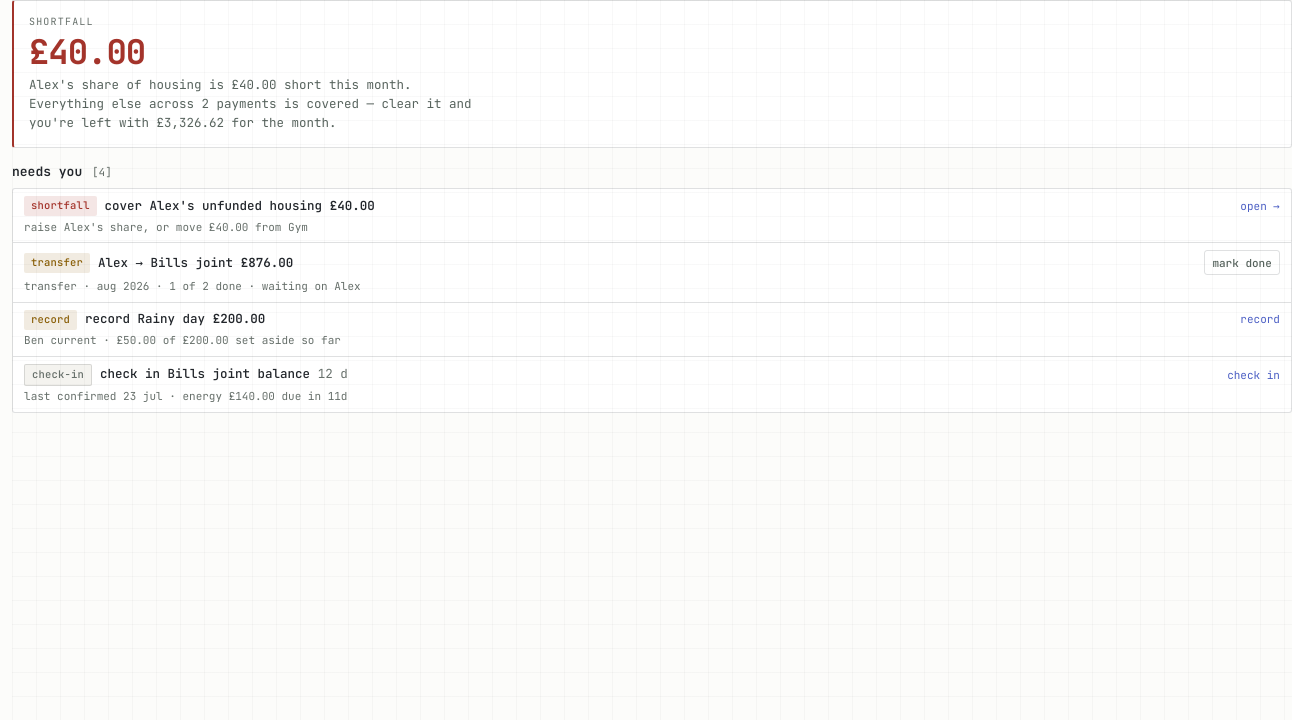
Fold · transfer › rolls the tick back and names the error code when the server refuses
Click the button "mark done": [1242, 263] box [1204, 250, 1280, 276]
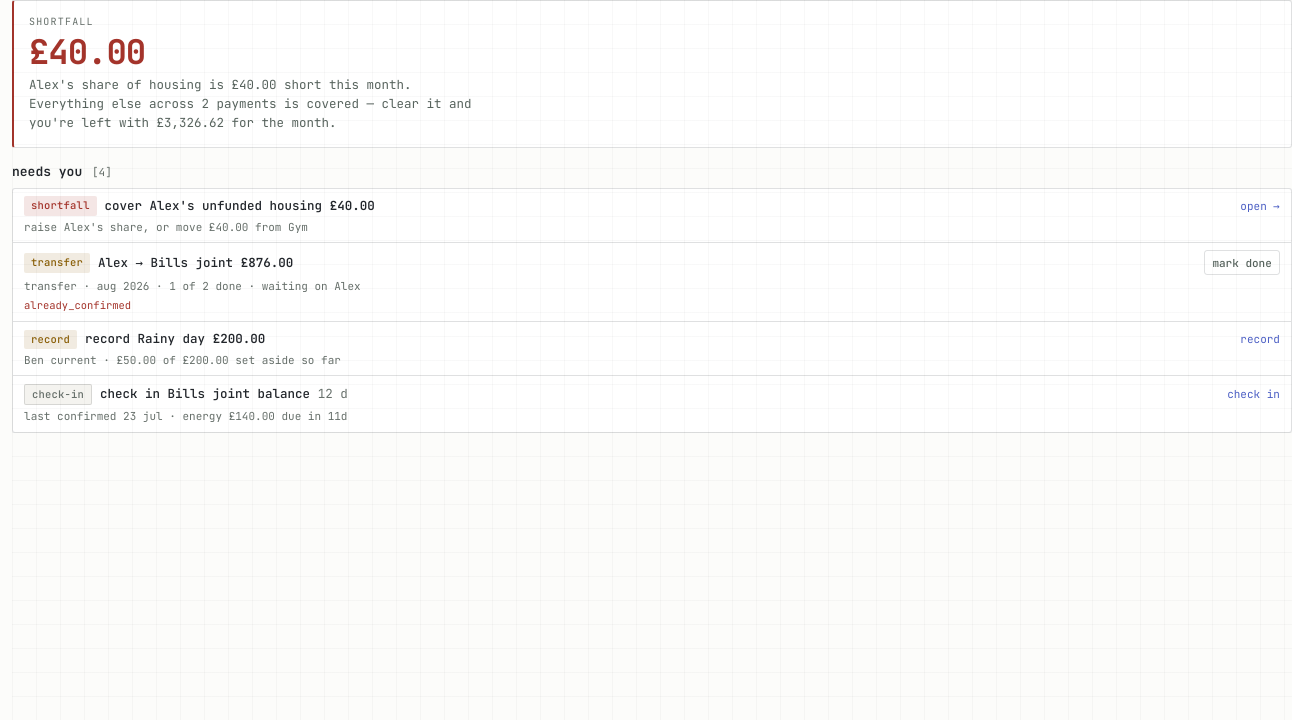
Result: the message reads "already_confirmed" at [24, 298, 131, 312]
